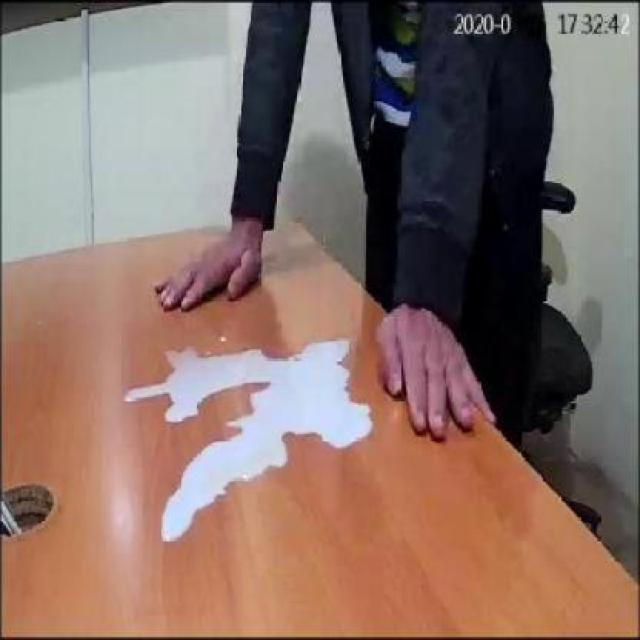spillage: (126, 338, 373, 542)
